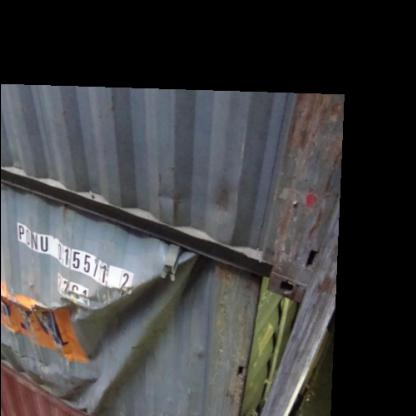Damage: (18, 223, 193, 405), (266, 91, 338, 280)
